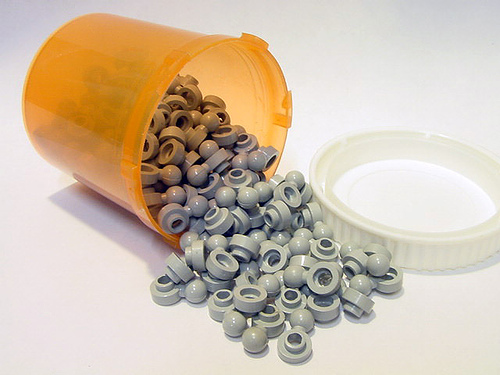pill bottle: (18, 9, 301, 256)
